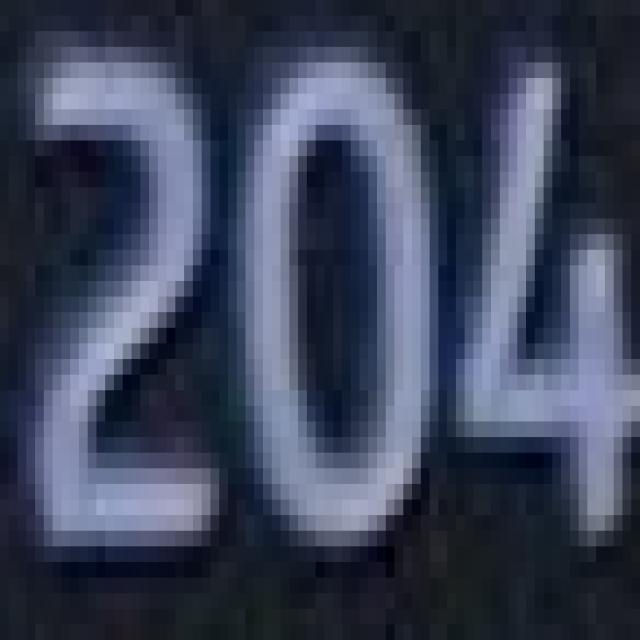character: (16, 42, 229, 571), (231, 45, 444, 570), (453, 53, 640, 564)
